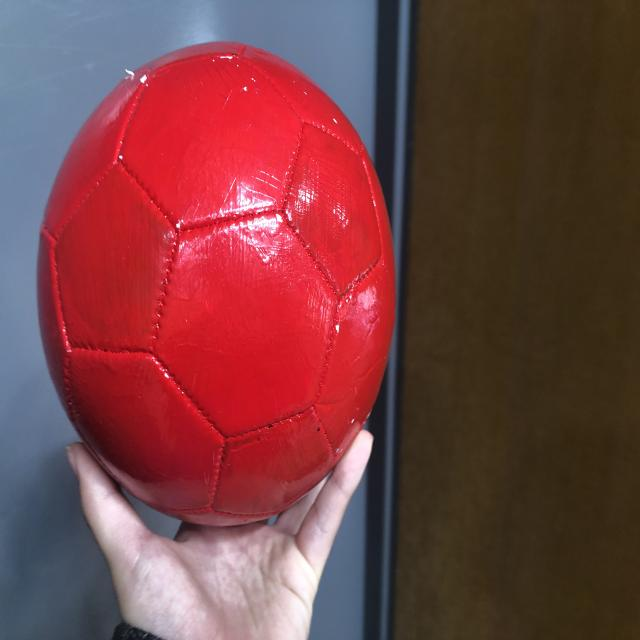red_ball: (36, 39, 398, 528)
